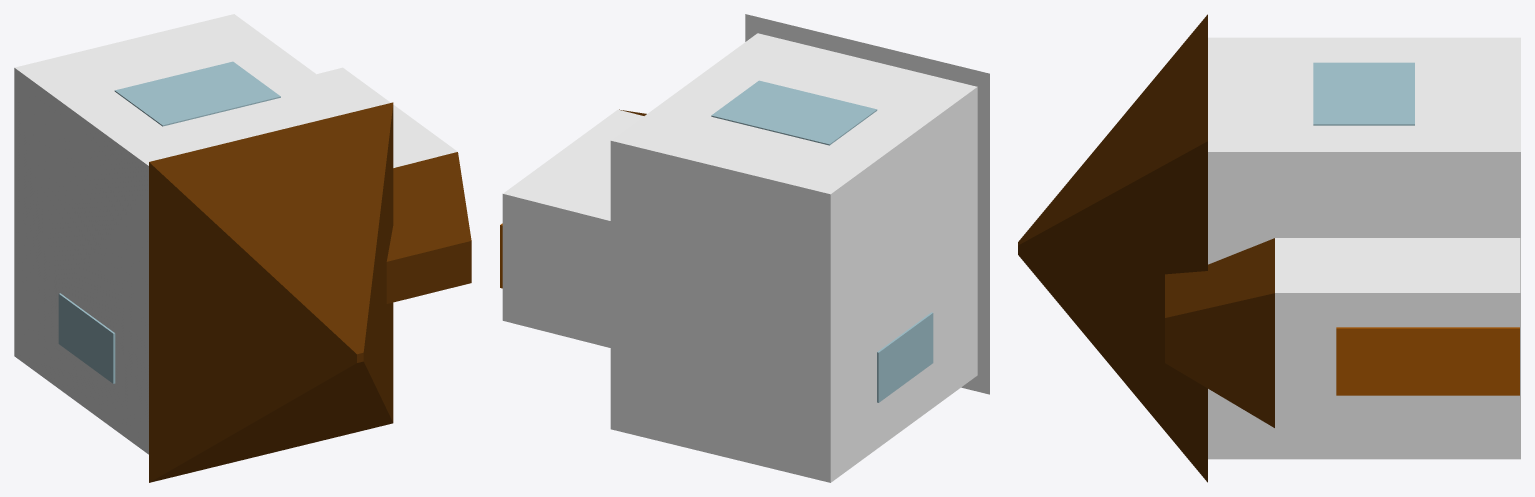
File: Дом3Origin.fbx
3 renders of one model, left to right at view 1: azimuth 30°, elevation 25°; view 2: azimuth 150°, elevation 25°; view 3: azimuth 270°, elevation 25°, orthographic. The views are drawn at different scales.
Parts seen in each view (by area): view 1: Дом3; view 2: Дом3; view 3: Дом3.
Part boxes in pixels (<box>): Дом3: <box>14,14,471,482</box>; Дом3: <box>500,14,989,482</box>; Дом3: <box>1018,14,1520,482</box>.
Size of the model in its own units: 5.51 by 4.92 by 6.56.
